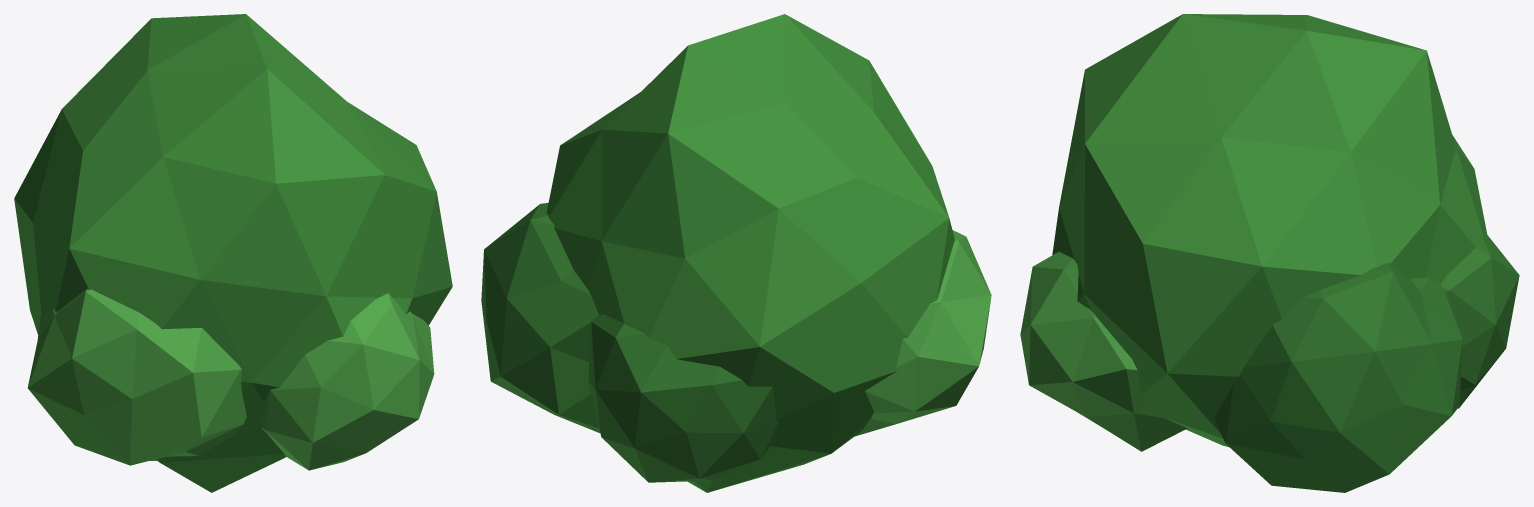
Rendered from bush_berry.glb.
3 renders of one model, left to right at view 1: azimuth 30°, elevation 25°; view 2: azimuth 150°, elevation 25°; view 3: azimuth 270°, elevation 25°, orthographic. The views are drawn at different scales.
Parts seen in each view (by area): view 1: bush_berry; view 2: bush_berry; view 3: bush_berry.
Part boxes in pixels (box(x1,y1,x2,y2)): bush_berry: box(14, 14, 452, 492); bush_berry: box(481, 14, 991, 492); bush_berry: box(1020, 14, 1519, 492).
Size of the model in its own units: 2.53 by 2.34 by 2.34.
